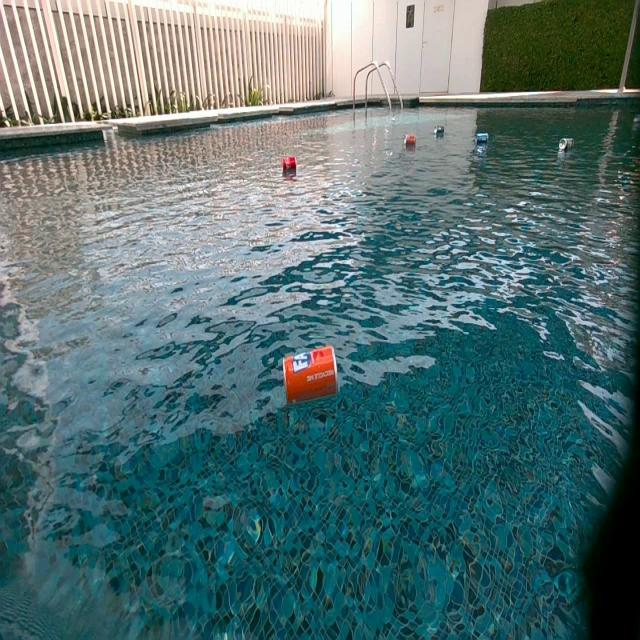Cans: (286, 346, 340, 408), (288, 348, 335, 380), (281, 158, 296, 174), (558, 138, 574, 153), (403, 134, 417, 148), (477, 134, 490, 149), (432, 126, 443, 137), (633, 115, 640, 126)
